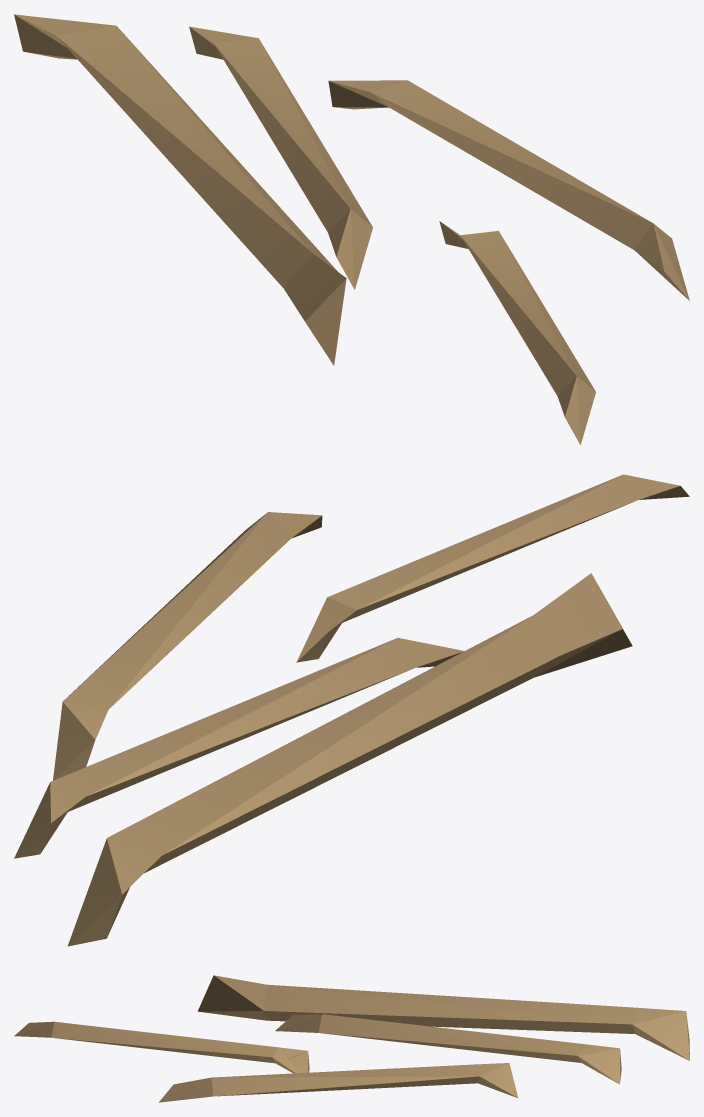
Rendered from Skull_2B_LOD.fbx.
3 views of the same model, one above another, from view 1: azimuth 30°, elevation 25°; view 2: azimuth 150°, elevation 25°; view 3: azimuth 270°, elevation 25° (orthographic). The views are drawn at different scales.
Visible parts, largest first — view 1: polySurface1322; view 2: polySurface1322; view 3: polySurface1322.
Boxes of the visible parts, x1,y1,x2,y2 form: polySurface1322: [14, 14, 689, 444]; polySurface1322: [14, 474, 689, 946]; polySurface1322: [14, 975, 689, 1102].
Bounding box in the file's own units: 1.05 × 0.2523 × 2.79.
